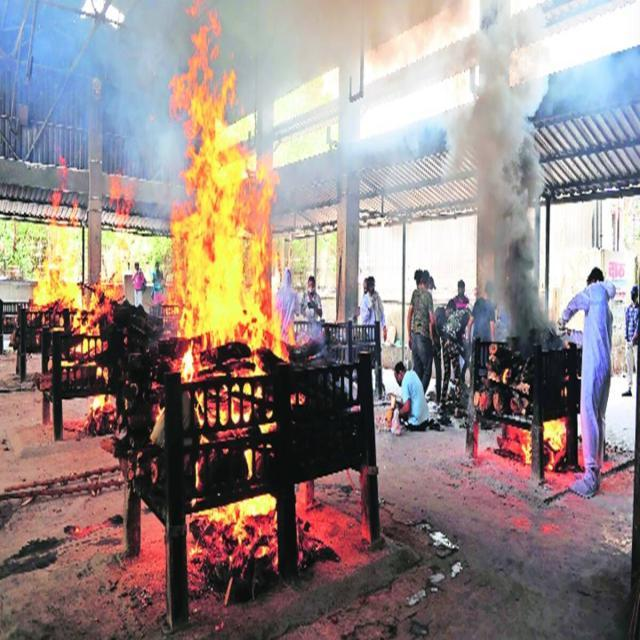Fire: (174, 120, 280, 353)
Smoke: (352, 6, 532, 162)
